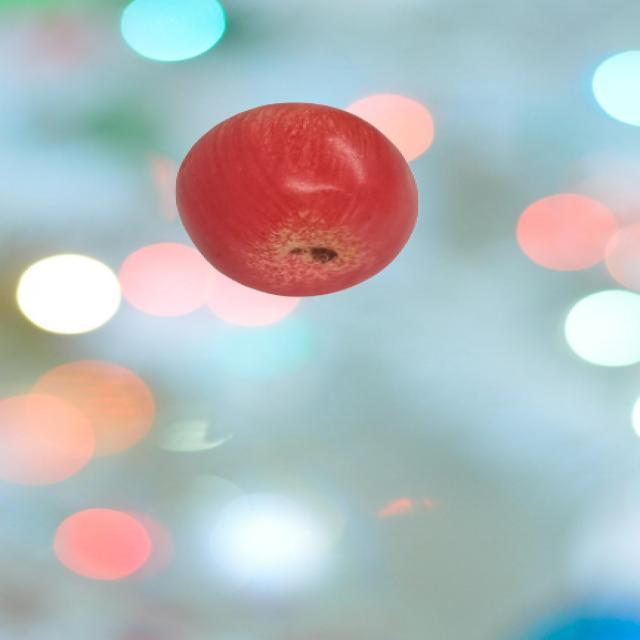apple: (178, 103, 419, 298)
